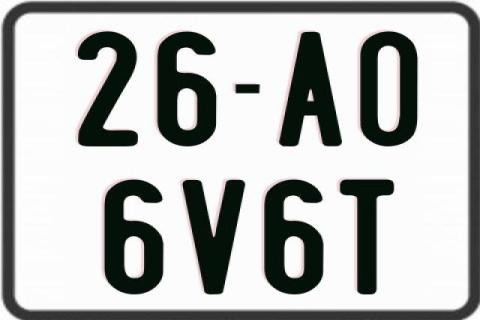0: (77, 30, 143, 146), (261, 177, 323, 297), (155, 30, 219, 146), (359, 30, 421, 148), (103, 177, 162, 297)
A: (278, 32, 346, 147)
T: (338, 177, 392, 292)
V: (181, 177, 248, 297)
